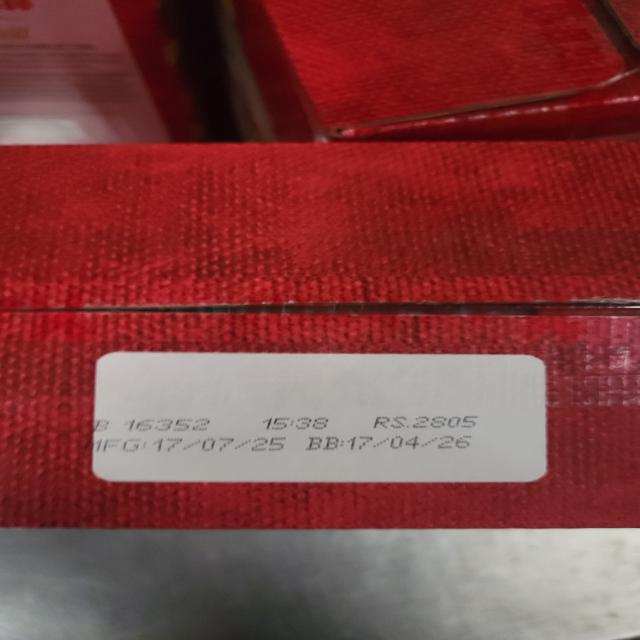BB: (305, 434, 476, 452)
Batch: (93, 418, 211, 431)
MFG: (95, 434, 292, 454)
RS: (370, 415, 481, 429)
TimeStamp: (260, 416, 331, 430)
